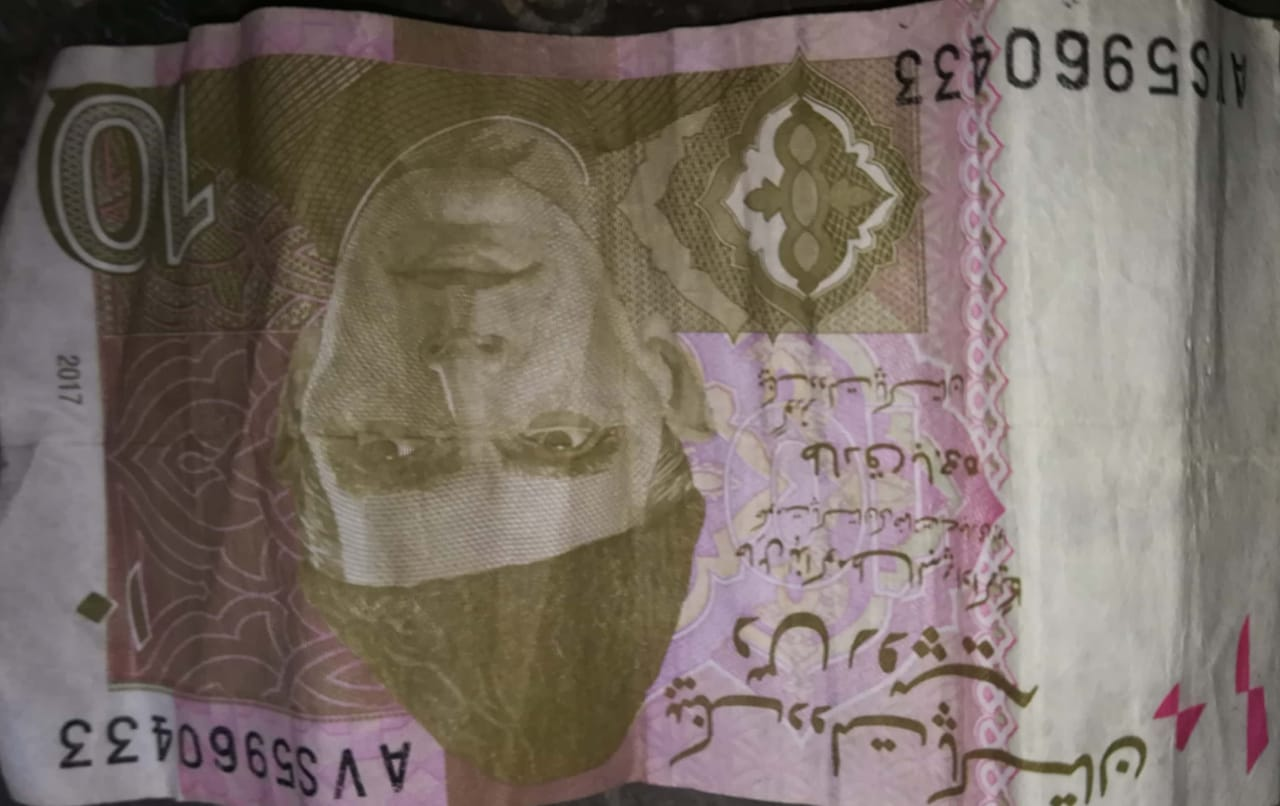10 rupee: (8, 12, 1280, 806)
